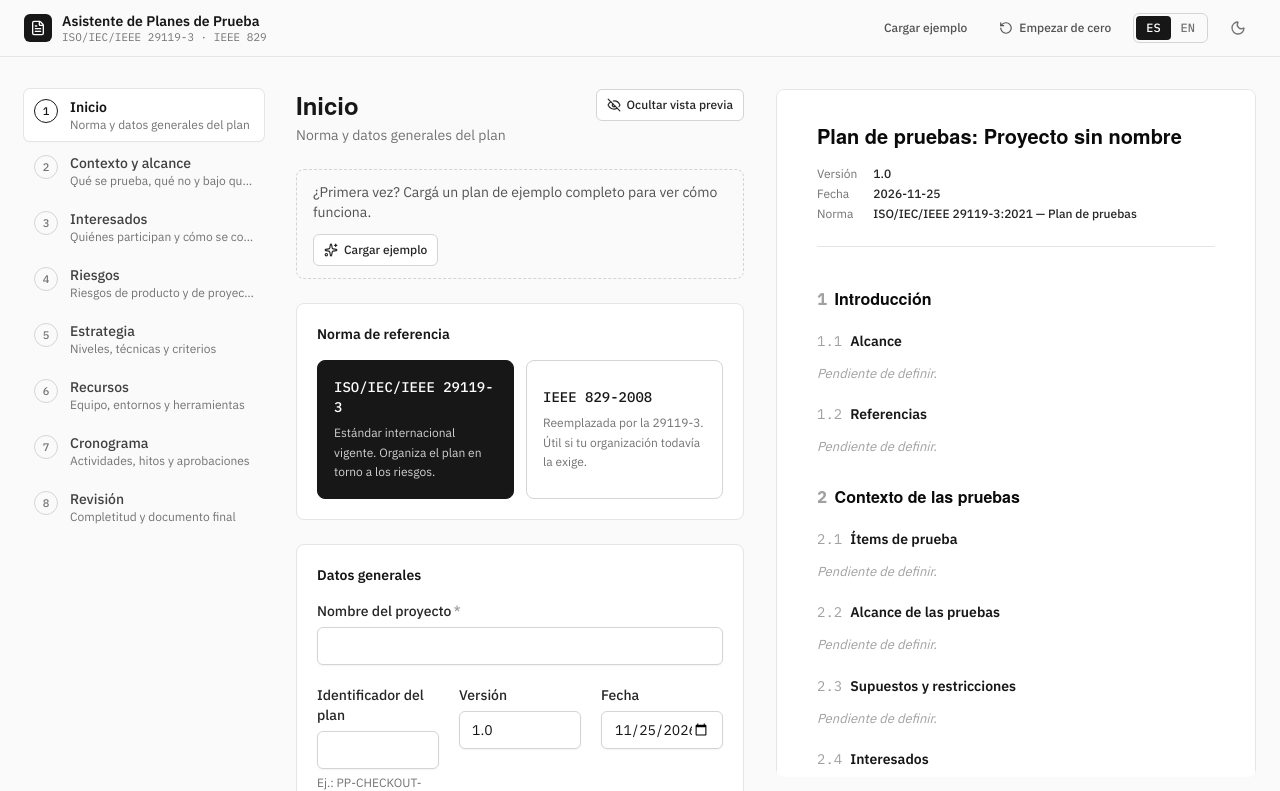
Test: wizard › shows 100% completeness for the sample plan and switches the document language
The width and height of the screenshot is (1280, 791).
Click the button "Cargar ejemplo" in the row of "ISO/IEC/IEEE 29119-3 · IEEE 829" at (926, 28), box x1=874 y1=12 x2=977 y2=44
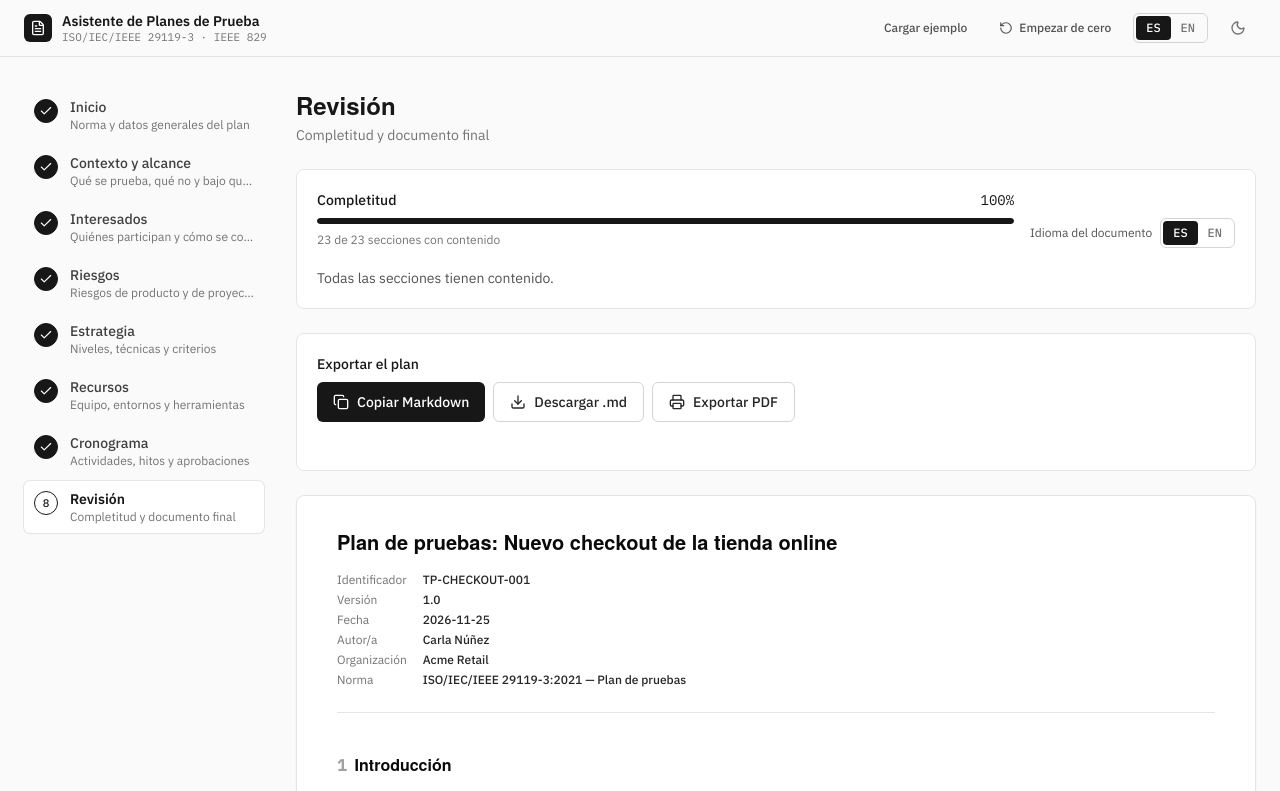
Click the radio button with aria-label "English" at (1215, 233), box x1=1198 y1=221 x2=1232 y2=245
(page scrolled)
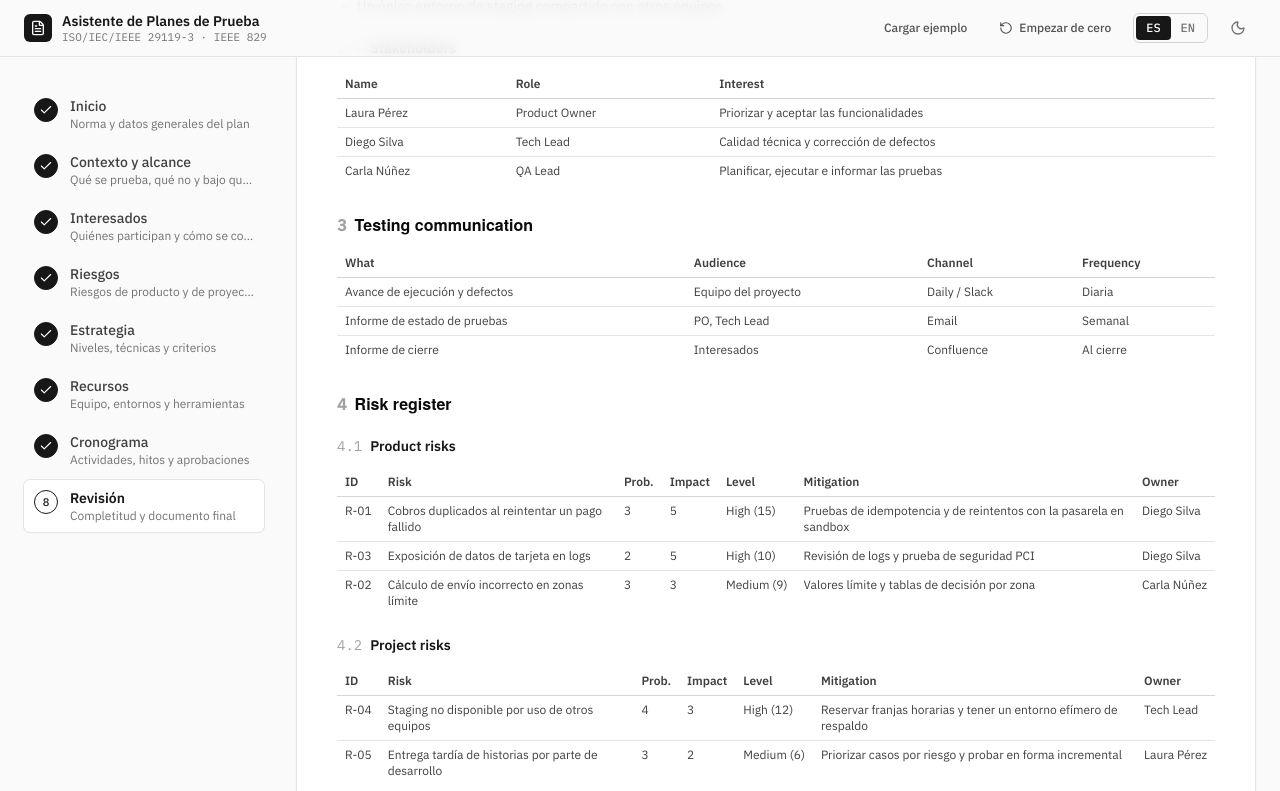
Expected: the heading "4Risk register" is shown, x1=337 y1=392 x2=452 y2=415
